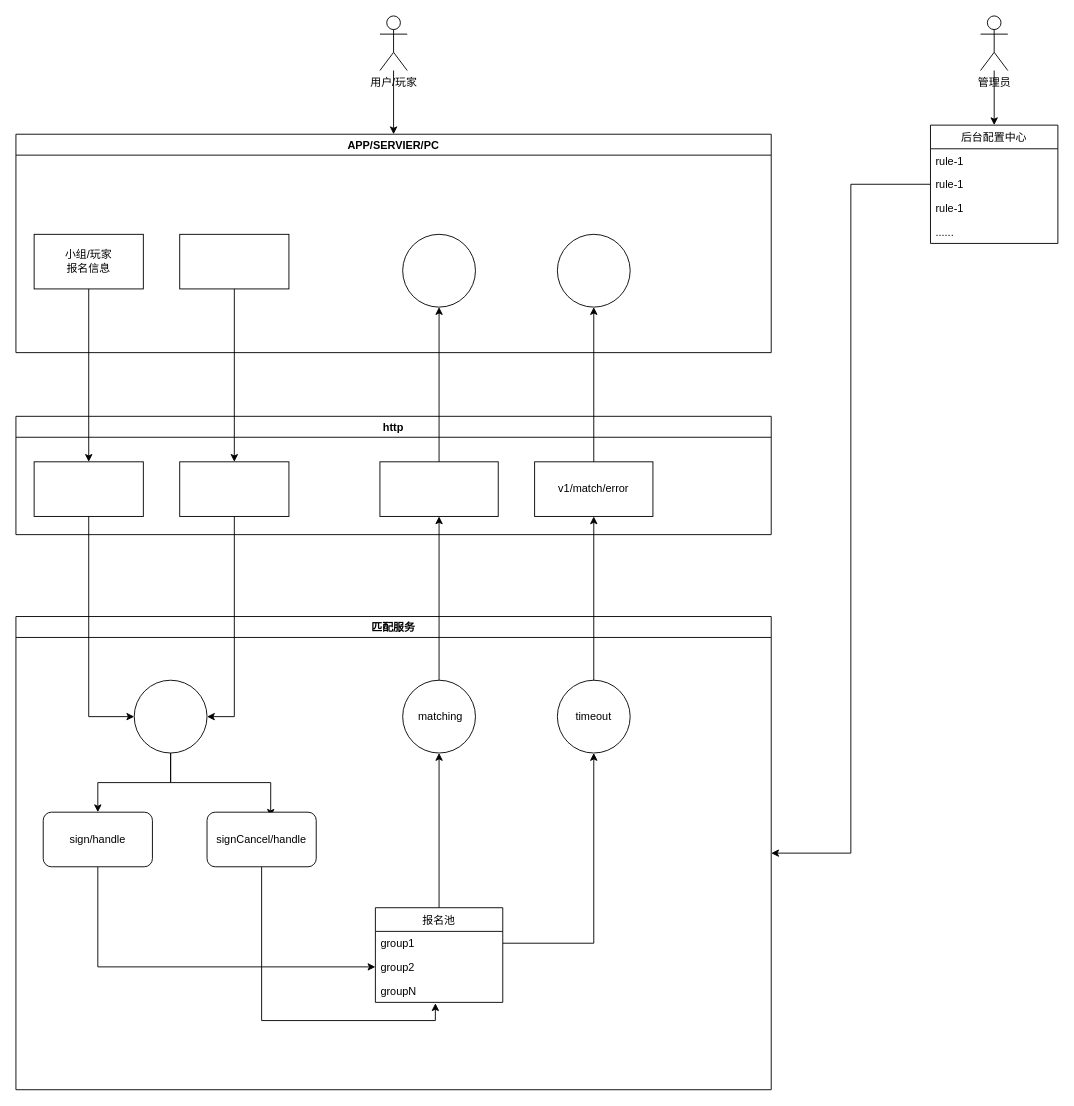
Some shapes in this 1074 by 1106 pixel diagram are drawn without their labels. Each missing label, with the centre of its shape:
http /sign: point (88, 488)
http /signCancel: point (234, 488)
httpd: point (170, 716)
ID: point (234, 261)
v1/match/succ: point (438, 488)
接收匹配 异常信息: point (593, 270)
接收匹配 成功信息: point (438, 270)
